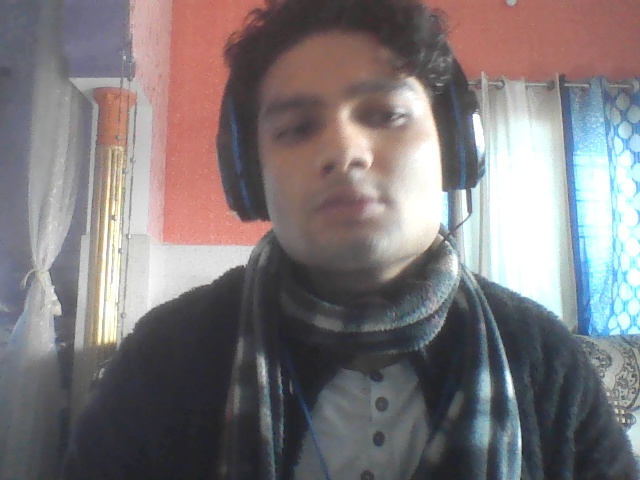real: (235, 0, 460, 319)
